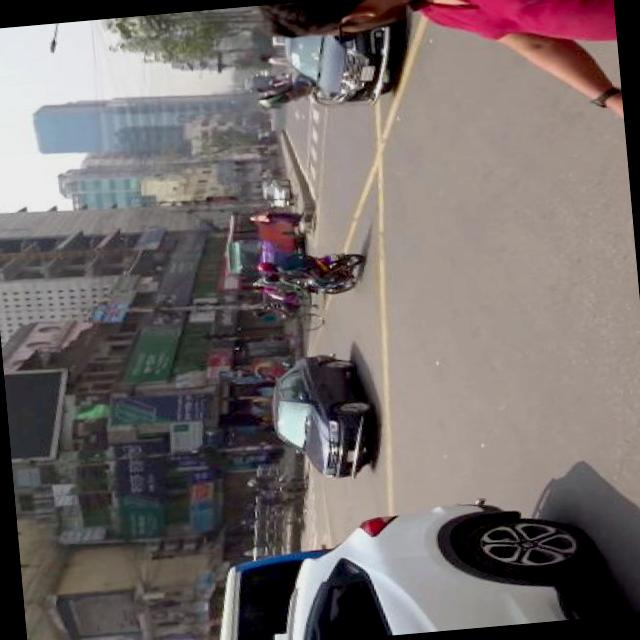bus: (218, 205, 306, 273), (240, 72, 274, 91)
car: (251, 486, 593, 640), (257, 346, 380, 485), (276, 13, 397, 112), (258, 175, 294, 208)
motorcycle: (250, 246, 362, 300), (247, 268, 326, 334), (250, 67, 348, 111), (245, 352, 302, 382)
truck: (193, 541, 329, 640)
